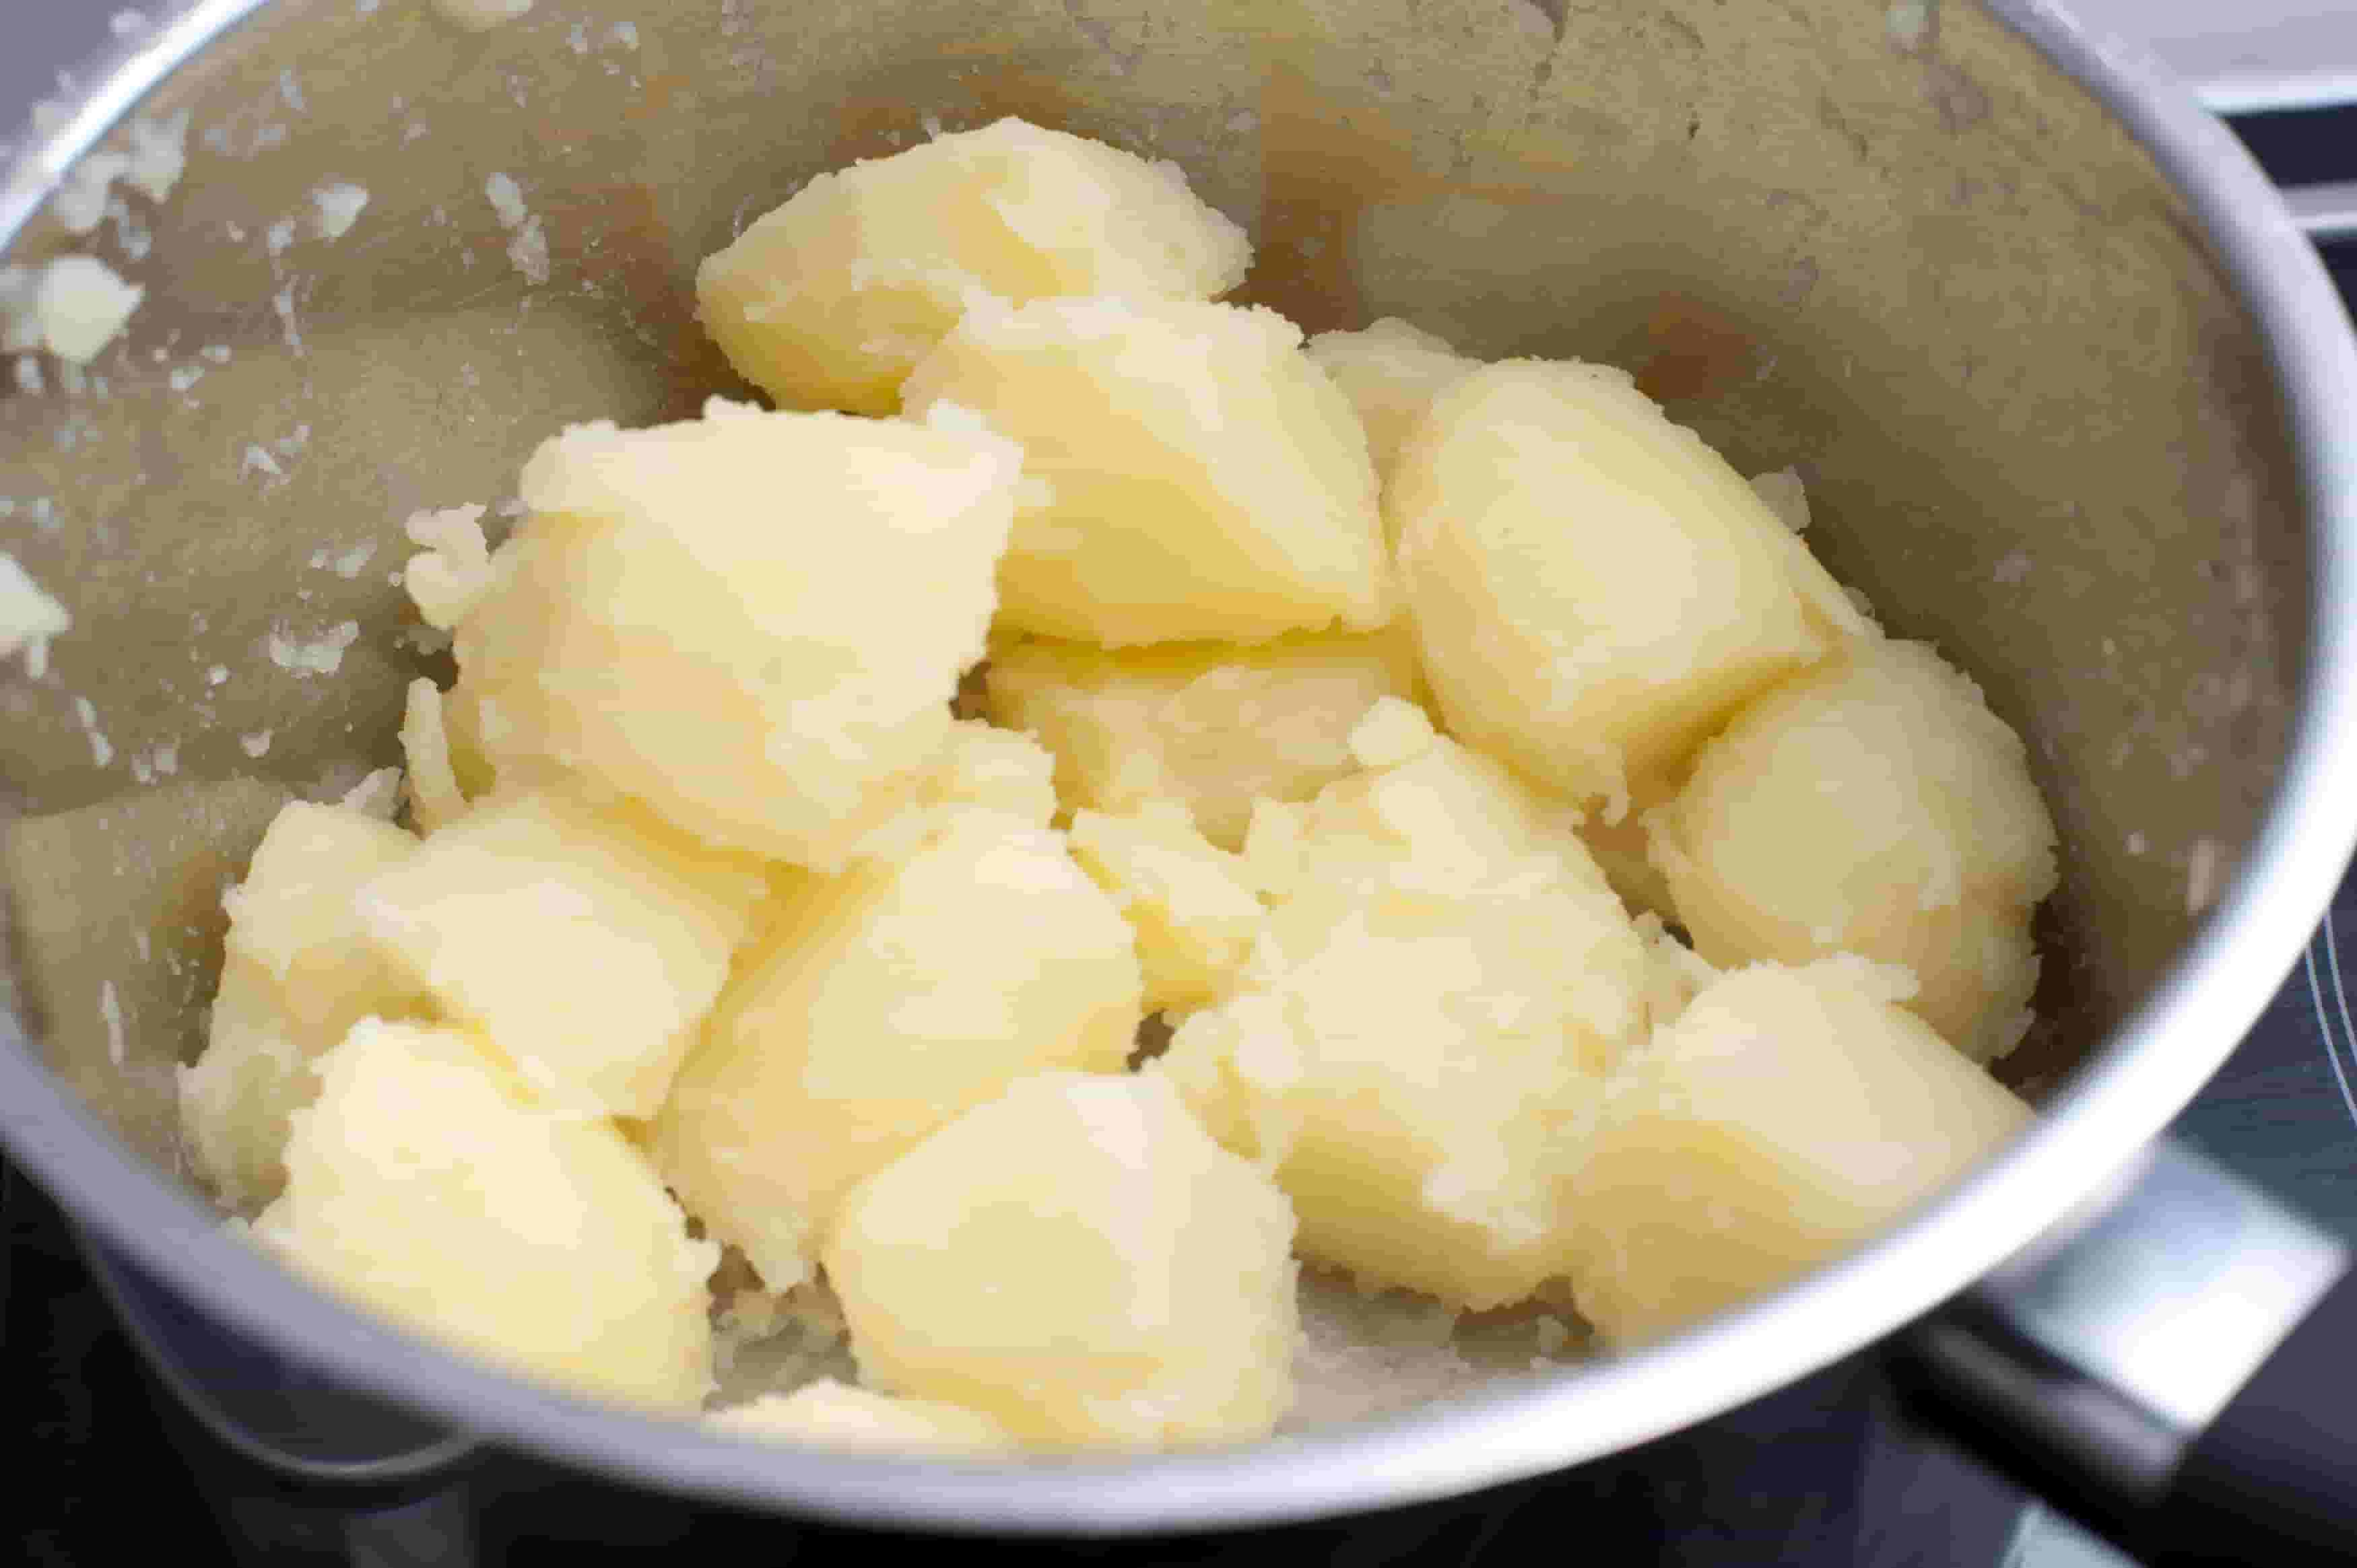boiled potatoes: (348, 194, 1897, 1353)
